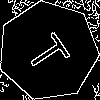T: (23, 26, 79, 77)
